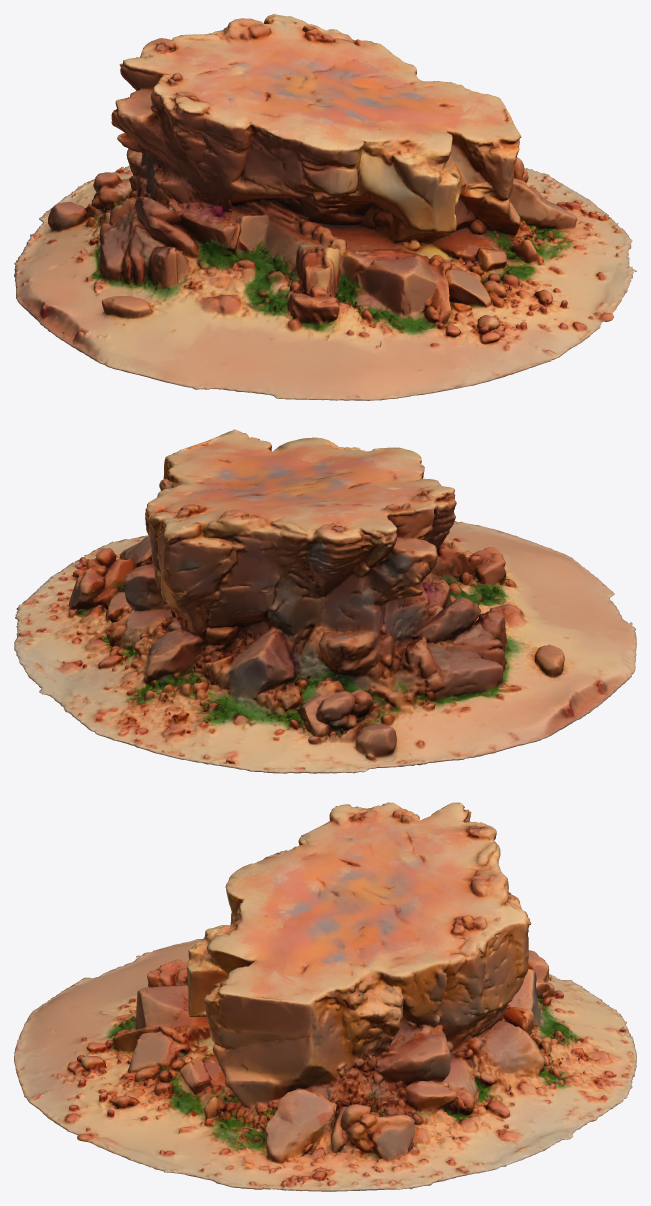
The model's file is Desert_Monolith.glb.
3 renders of one model, top to bottom at view 1: azimuth 30°, elevation 25°; view 2: azimuth 150°, elevation 25°; view 3: azimuth 270°, elevation 25°, orthographic.
Parts seen in each view (by area): view 1: Desert_Monolith; view 2: Desert_Monolith; view 3: Desert_Monolith.
Boxes of the visible parts, x1,y1,x2,y2 form: Desert_Monolith: (14,14,636,400); Desert_Monolith: (14,429,636,773); Desert_Monolith: (14,802,636,1191).
Bounding box in the file's own units: 1.9 × 0.6513 × 1.9.
1 material, 1 textured.
